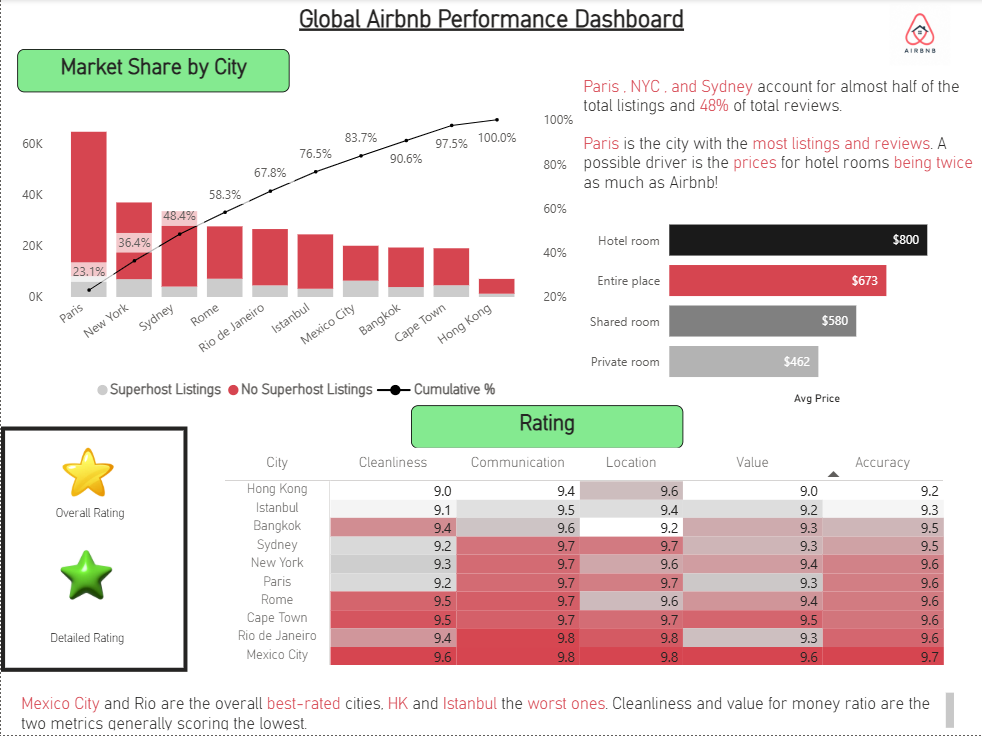

Layout of this report page (visuals, bound fields, positions):
{"tool":"powerbi","page":{"name":"Ratings","canvas":[960,720],"ordinal":1},"visuals":[{"type":"textbox","box":[150.4,0,659.1,59.9],"z":0},{"type":"image","box":[42.2,428.8,84.4,67.8],"z":0,"group":"g3"},{"type":"image","box":[35.2,526.2,96.7,75.6],"z":0,"group":"g2"},{"type":"image","box":[847.4,0,103.9,69.7],"z":1000},{"type":"textbox","box":[35,610.6,97.8,38.9],"z":1000,"group":"g2"},{"type":"textbox","box":[15.6,48.9,266.7,42.2],"z":2000},{"type":"textbox","box":[15,673.8,922.5,46.2],"z":3000},{"type":"lineStackedColumnComboChart","fields":{"Category":["Listings.city"],"Y":["Listings.Superhost Listings","Listings.No Superhost Listings"],"Y2":["Listings.Cumulative %"]},"box":[15.6,102.2,550,300],"z":4000},{"type":"barChart","fields":{"Category":["Listings.room_type"],"Y":["Listings.Avg Price"]},"box":[565.6,192.2,383.3,210],"z":5000},{"type":"textbox","box":[565.6,70,394.4,137.8],"z":6000},{"type":"textbox","box":[401.2,397.5,266.2,42.5],"z":8000},{"type":"shape","box":[0,418.8,182.5,240],"z":10000},{"type":"pivotTable","fields":{"Rows":["Listings.city"],"Values":["Listings.Cleanliness","Listings.Communication","Listings.Location","Listings.Value","Listings.Accuracy"]},"box":[214,439,722.7,234.8],"z":10500},{"type":"group","id":"g1","title":"Group 1","box":[35,428.8,102.5,97.5],"z":11000},{"type":"group","id":"g2","title":"Group 2","box":[35,526.2,97.5,123.8],"z":12000},{"type":"textbox","box":[35,487.7,103.3,37.8],"z":12001,"group":"g3"},{"type":"group","id":"g3","title":"Group 3","box":[35,428.8,103.3,96.7],"z":12003,"group":"g1"}]}

Visuals, with their boxes in screenshot pixels (x1, y1, x2, y2), scaled from the page's 960x720 canvas onto the 982x736 screenshot:
textbox: crop(154, 0, 828, 61)
image: crop(43, 438, 130, 508)
image: crop(36, 538, 135, 615)
image: crop(867, 0, 973, 71)
textbox: crop(36, 624, 136, 664)
textbox: crop(16, 50, 289, 93)
textbox: crop(15, 689, 959, 735)
lineStackedColumnComboChart - Listings.city x Listings.Superhost Listings: crop(16, 104, 579, 411)
barChart - Listings.room_type x Listings.Avg Price: crop(579, 196, 971, 411)
textbox: crop(579, 72, 981, 212)
textbox: crop(410, 406, 683, 450)
shape: crop(0, 428, 187, 673)
pivotTable - Listings.city x Listings.Cleanliness: crop(219, 449, 958, 689)
"Group 1" group: crop(36, 438, 141, 538)
"Group 2" group: crop(36, 538, 136, 664)
textbox: crop(36, 499, 141, 537)
"Group 3" group: crop(36, 438, 141, 537)
